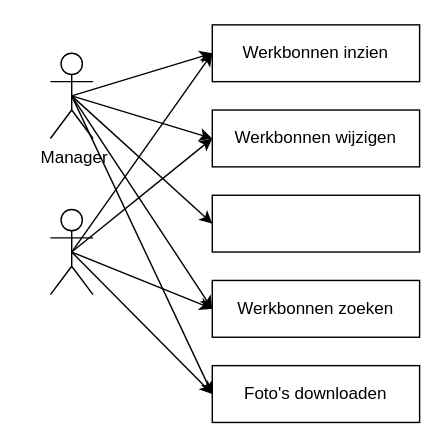
Some shapes in this 444 by 447 pixel diagram are drawn without their labels. The centre of each missing label's shape, as x and y in pixels:
"Medewerker" belongs at point (71, 251).
"Werkbonen verwijderen" belongs at point (315, 223).
